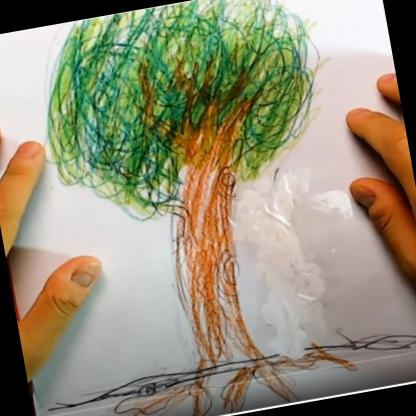branch_cut: (128, 42, 270, 166)
crown_dizzy: (24, 0, 340, 233)
knot: (208, 247, 244, 302), (160, 201, 196, 248), (212, 163, 241, 203)
root_under: (104, 322, 364, 416)
trunk_reflex: (156, 182, 264, 348)
